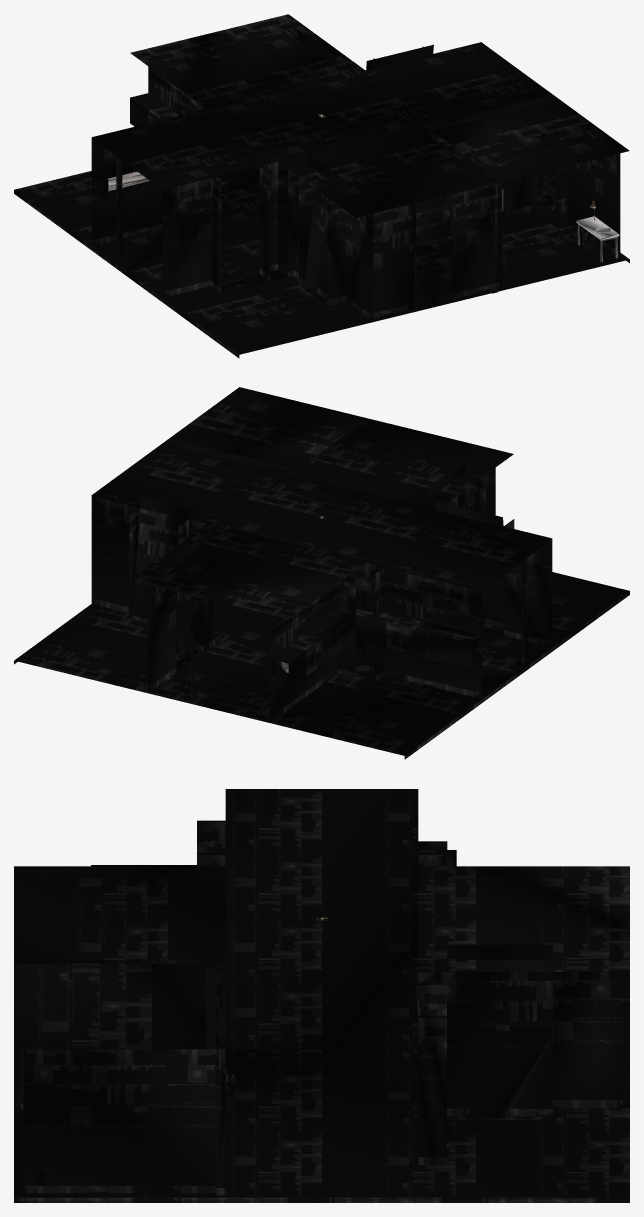
The model's file is room4info_opt.obj.
The picture shows the model from 3 angles, top to bottom: view 1: azimuth 30°, elevation 25°; view 2: azimuth 150°, elevation 25°; view 3: azimuth 270°, elevation 25°; orthographic projection. The views are drawn at different scales.
Bounding box in the file's own units: 102 × 30.81 × 102.
28 materials, 28 textured.
